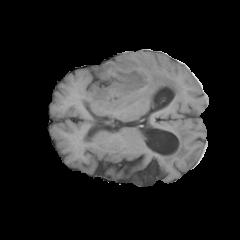glioma: (80, 58, 193, 159)
